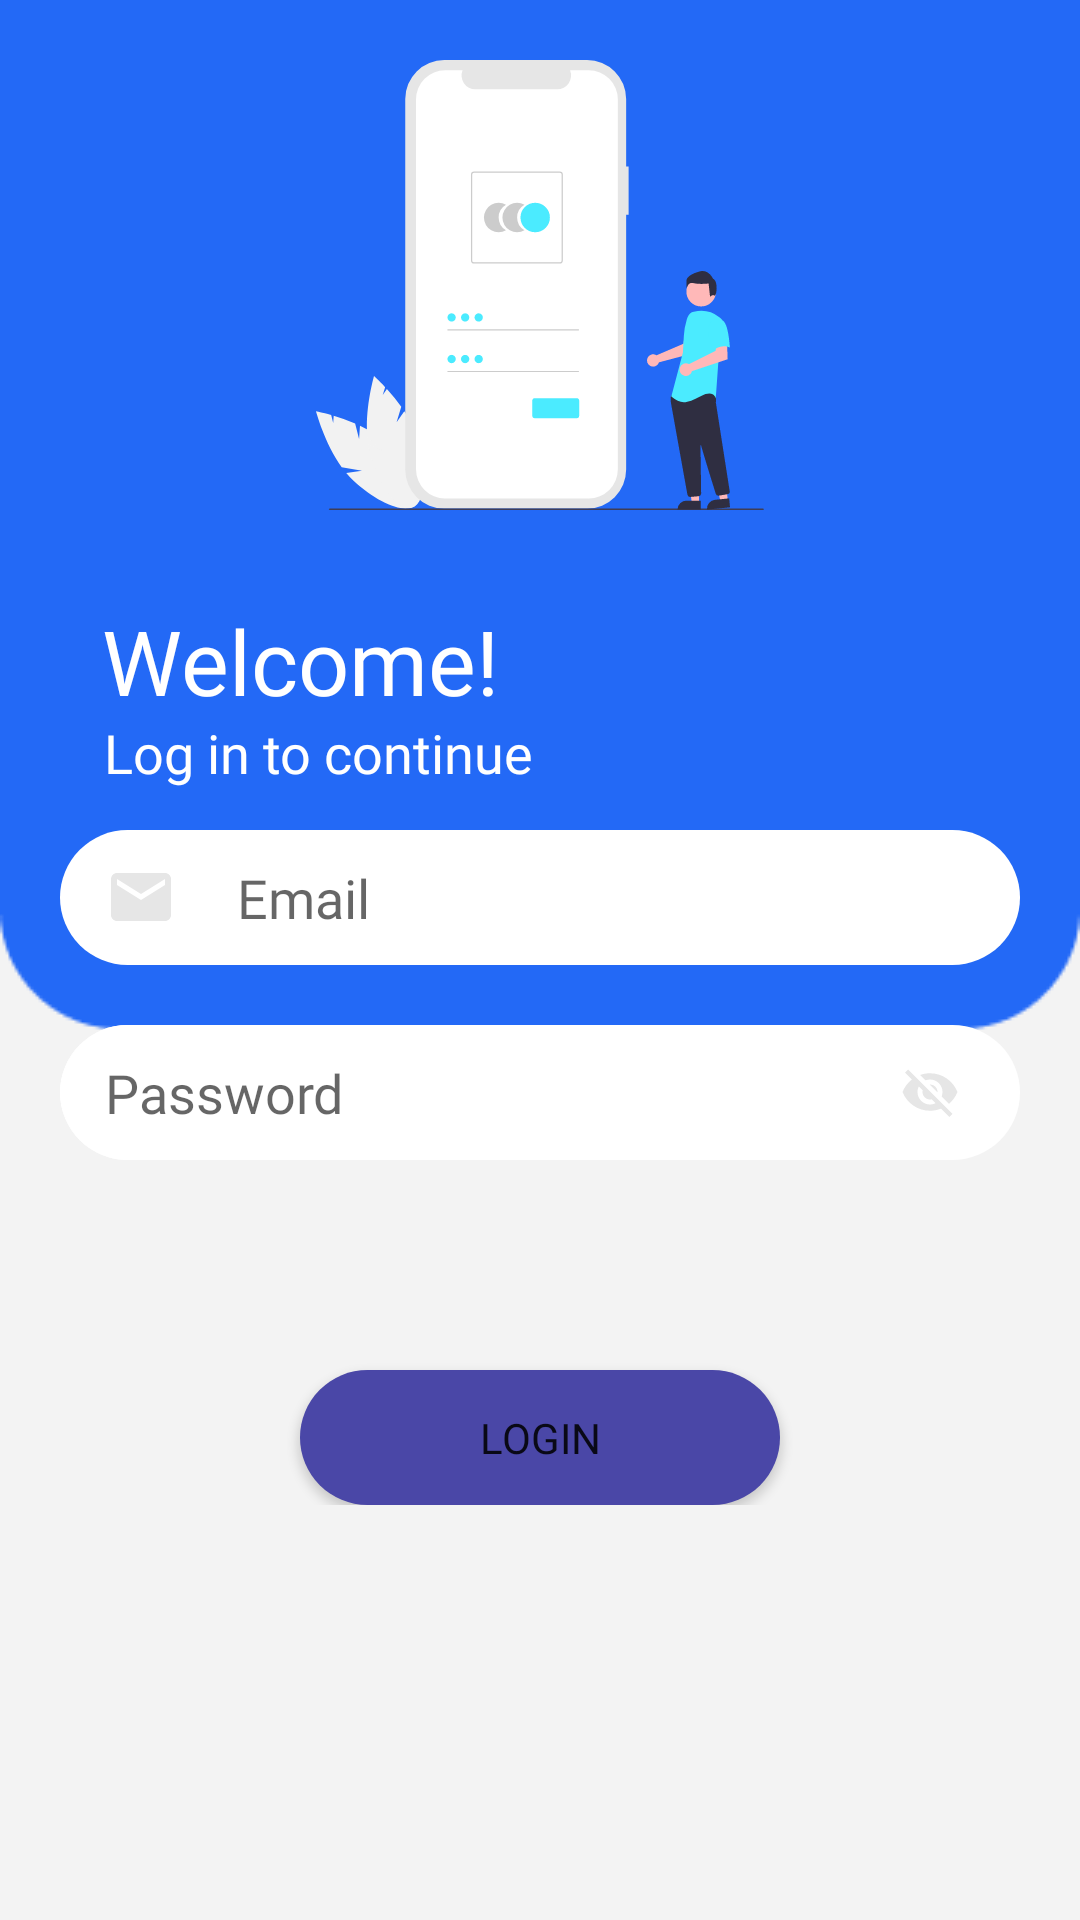

Where to tap for icons on this 1080×1920 app screen, as [x,y]:
visibility off: [930,1093]
